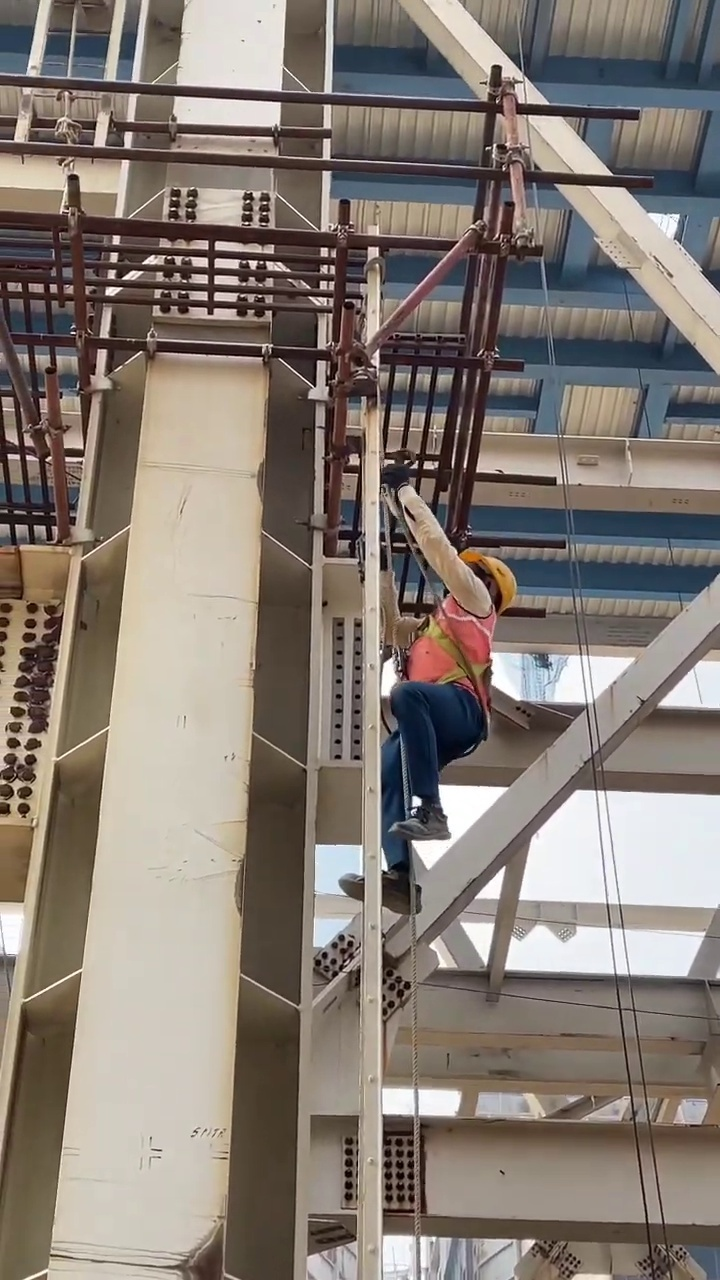Helmet: (458, 548, 519, 606)
Person: (337, 547, 519, 916)
Safety_Harness: (392, 606, 501, 732)
Safety_shoes: (338, 864, 424, 916), (387, 802, 452, 842)
